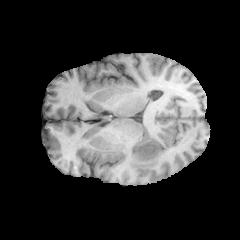glioma: (127, 140, 172, 174)
